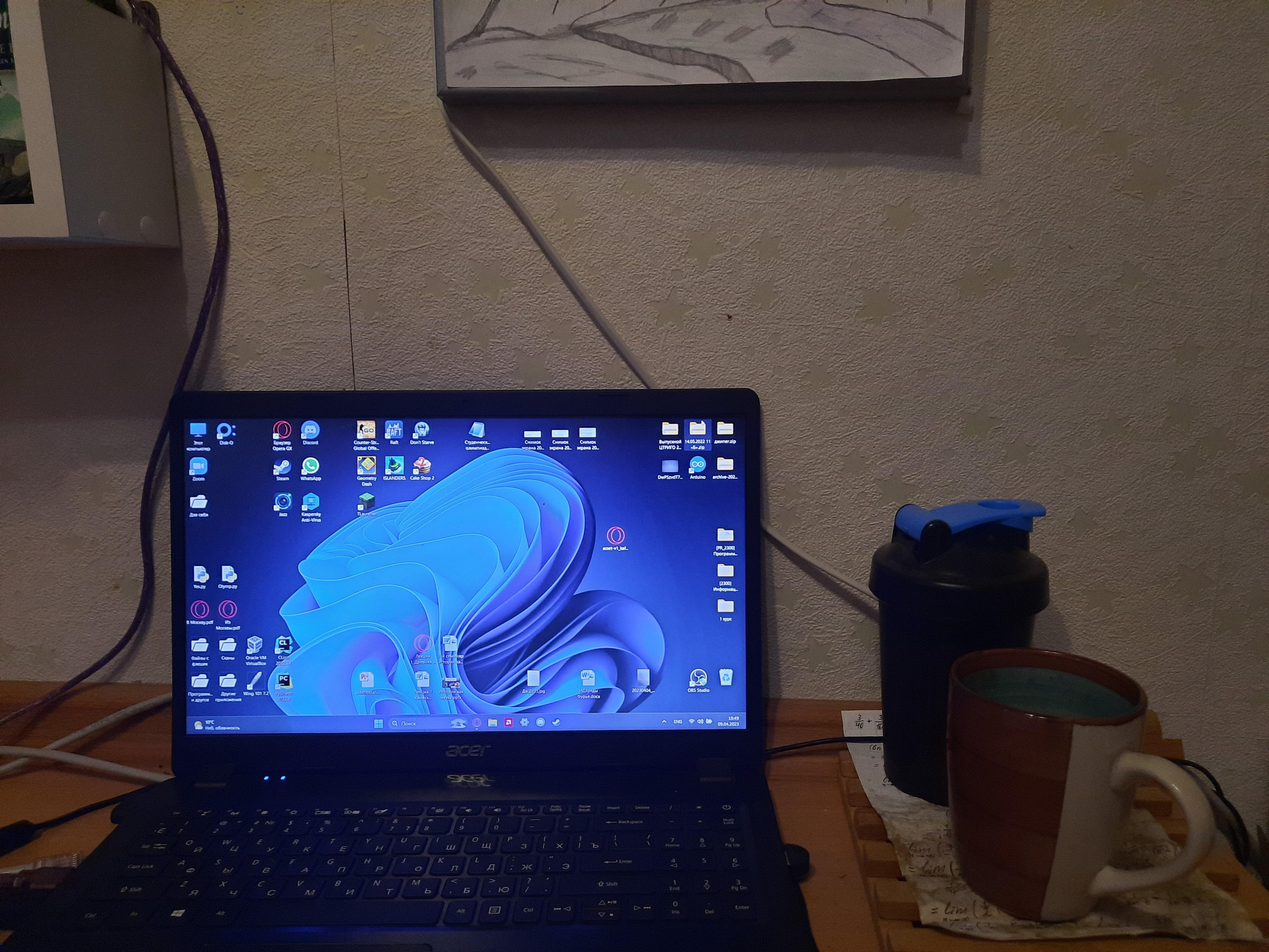monitor: (157, 379, 776, 789)
